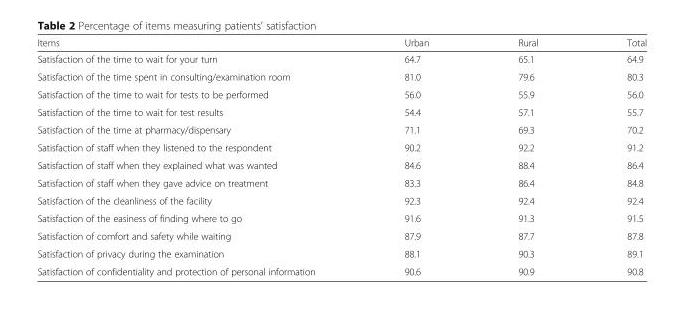table: (36, 36, 646, 276)
table column: (36, 36, 359, 276), (359, 36, 472, 276), (472, 36, 581, 276), (581, 36, 646, 276)
table column header: (36, 36, 646, 50)
table row: (36, 67, 646, 85), (36, 102, 646, 120), (36, 120, 646, 138), (36, 138, 646, 156), (36, 173, 646, 191), (36, 191, 646, 209), (36, 226, 646, 244), (36, 244, 646, 262), (36, 50, 646, 67), (36, 85, 646, 102), (36, 156, 646, 173), (36, 209, 646, 226), (36, 36, 646, 50), (36, 262, 646, 276)
